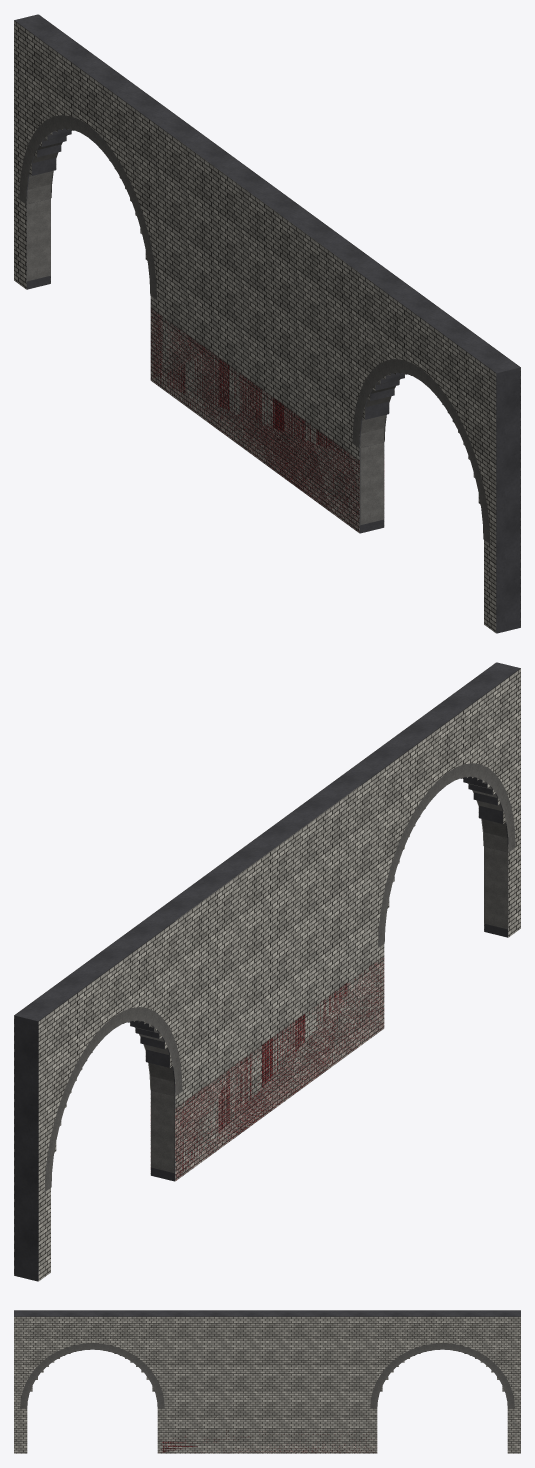
Rendered from end_wall.obj.
The picture shows the model from 3 angles, top to bottom: view 1: azimuth 30°, elevation 25°; view 2: azimuth 150°, elevation 25°; view 3: azimuth 270°, elevation 25°; orthographic projection. The views are drawn at different scales.
Parts seen in each view (by area): view 1: end_wall; view 2: end_wall; view 3: end_wall.
Boxes of the visible parts, x1,y1,x2,y2 form: end_wall: (14,14,520,633); end_wall: (14,662,520,1281); end_wall: (14,1310,520,1453).
Bounding box in the file's own units: 0.64 × 6.25 × 21.
